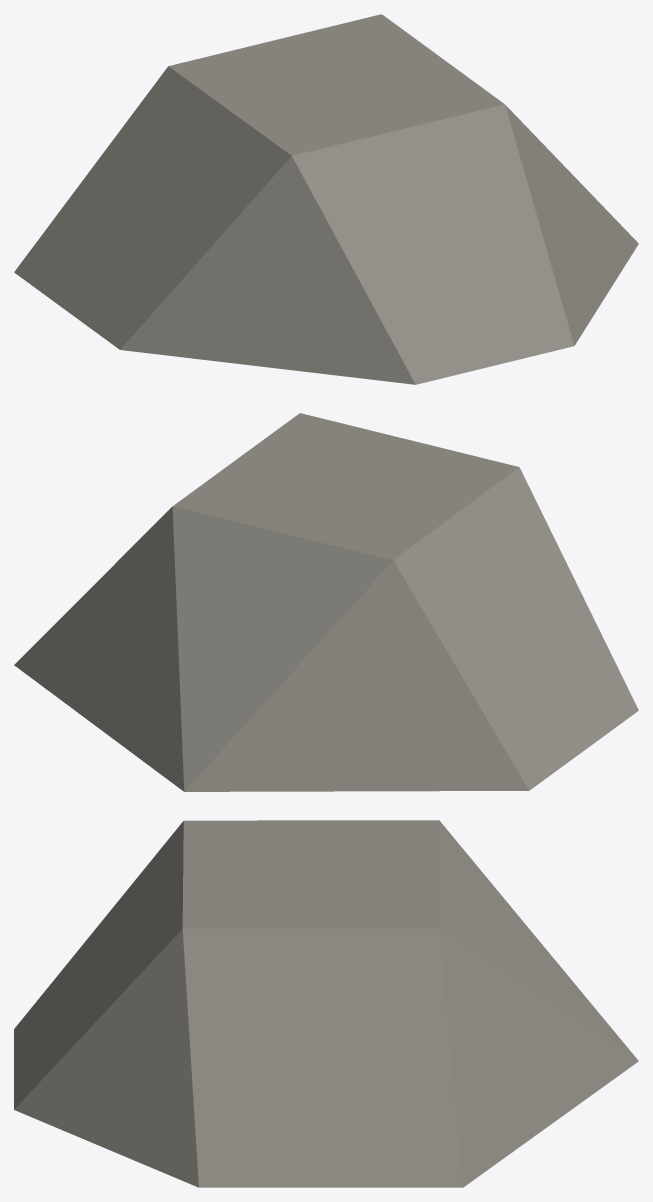
The model's file is Rock_Round_s_04.fbx.
3 views of the same model, one above another, from view 1: azimuth 30°, elevation 25°; view 2: azimuth 150°, elevation 25°; view 3: azimuth 270°, elevation 25° (orthographic). The views are drawn at different scales.
Visible parts, largest first — view 1: Rock_Round_s_04; view 2: Rock_Round_s_04; view 3: Rock_Round_s_04.
Part boxes in pixels (left/top/right/bottom): Rock_Round_s_04: left=14, top=14, right=638, bottom=384; Rock_Round_s_04: left=14, top=413, right=638, bottom=791; Rock_Round_s_04: left=14, top=820, right=638, bottom=1187.
Size of the model in its own units: 0.2523 by 0.087 by 0.2634.
